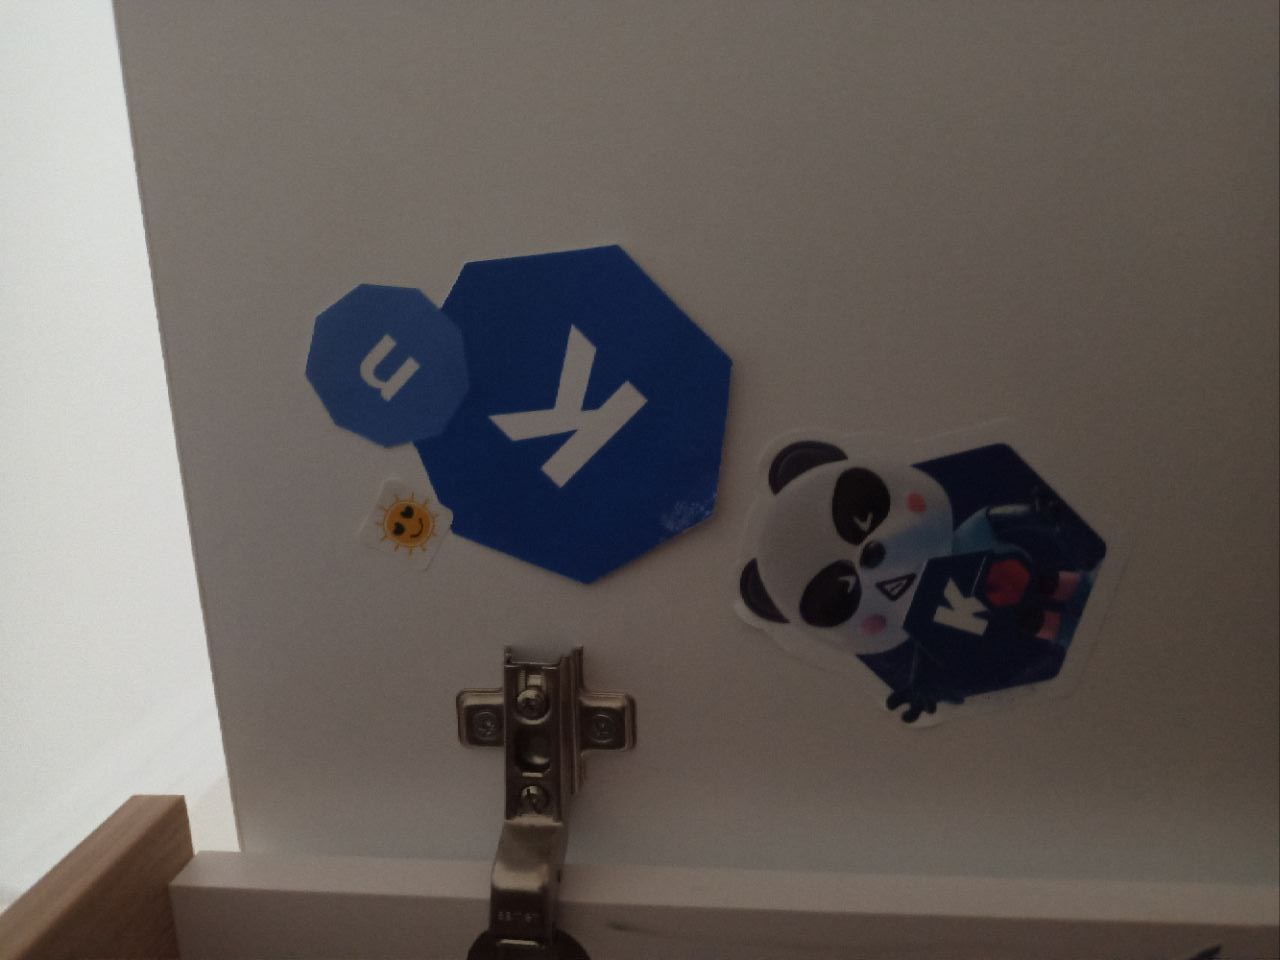knative: (305, 240, 734, 587)
